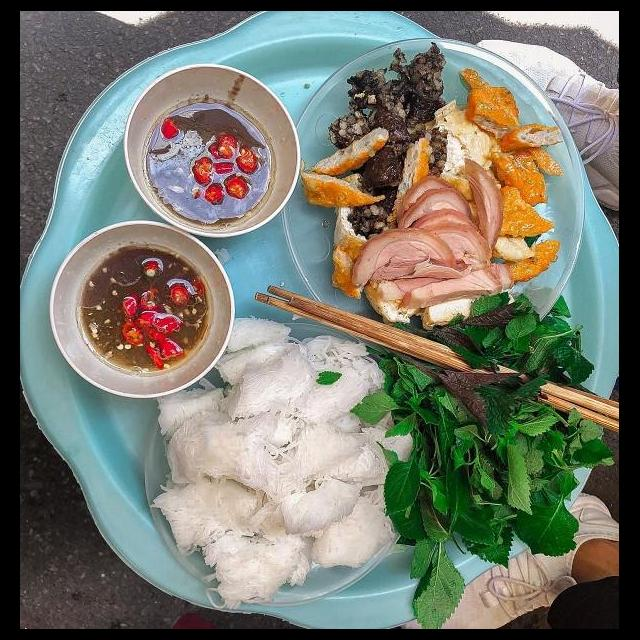bun: (148, 308, 434, 613)
bun dau: (53, 40, 619, 629)
cha com: (486, 131, 570, 293), (454, 60, 566, 155), (296, 120, 394, 179), (294, 164, 388, 214)
dau hu: (364, 275, 428, 332), (418, 291, 476, 331)
doi sun: (314, 32, 458, 236)
thit heo: (388, 171, 516, 315), (344, 222, 472, 302), (462, 151, 514, 259)
